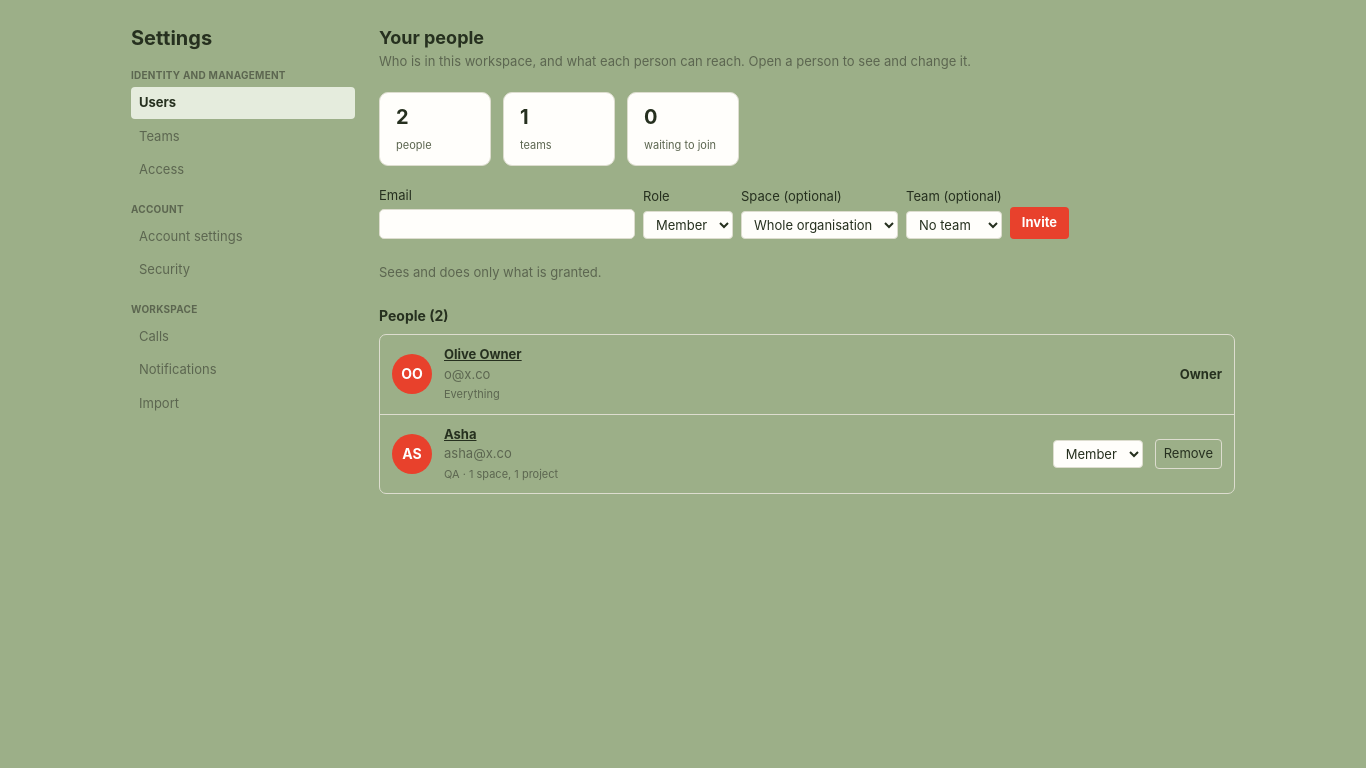
it: a person's page › shows the server's refusal when access cannot be given
The image size is (1366, 768).
Click the button "Asha" at {"x": 460, "y": 434}, box [444,424,476,444]
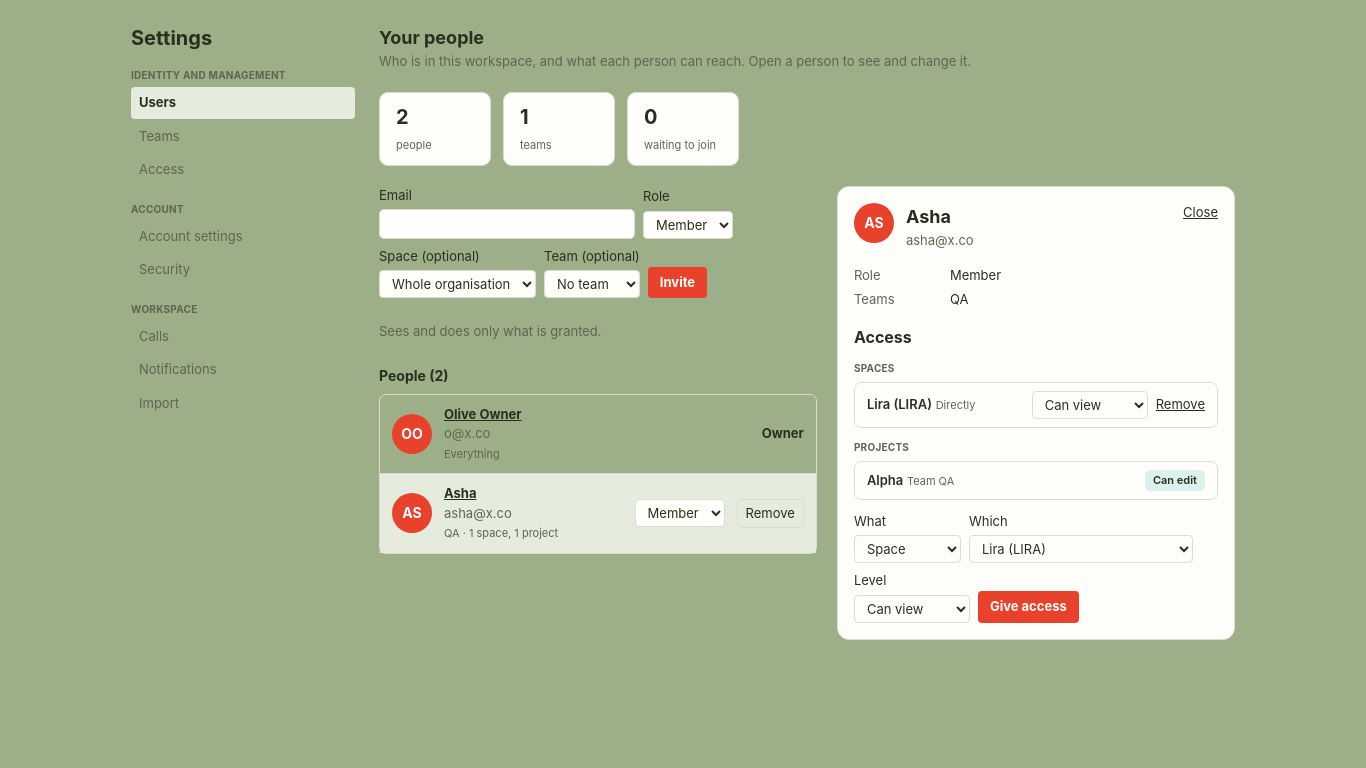
Click the button "Give access" at {"x": 1028, "y": 607}, box [978,591,1079,622]
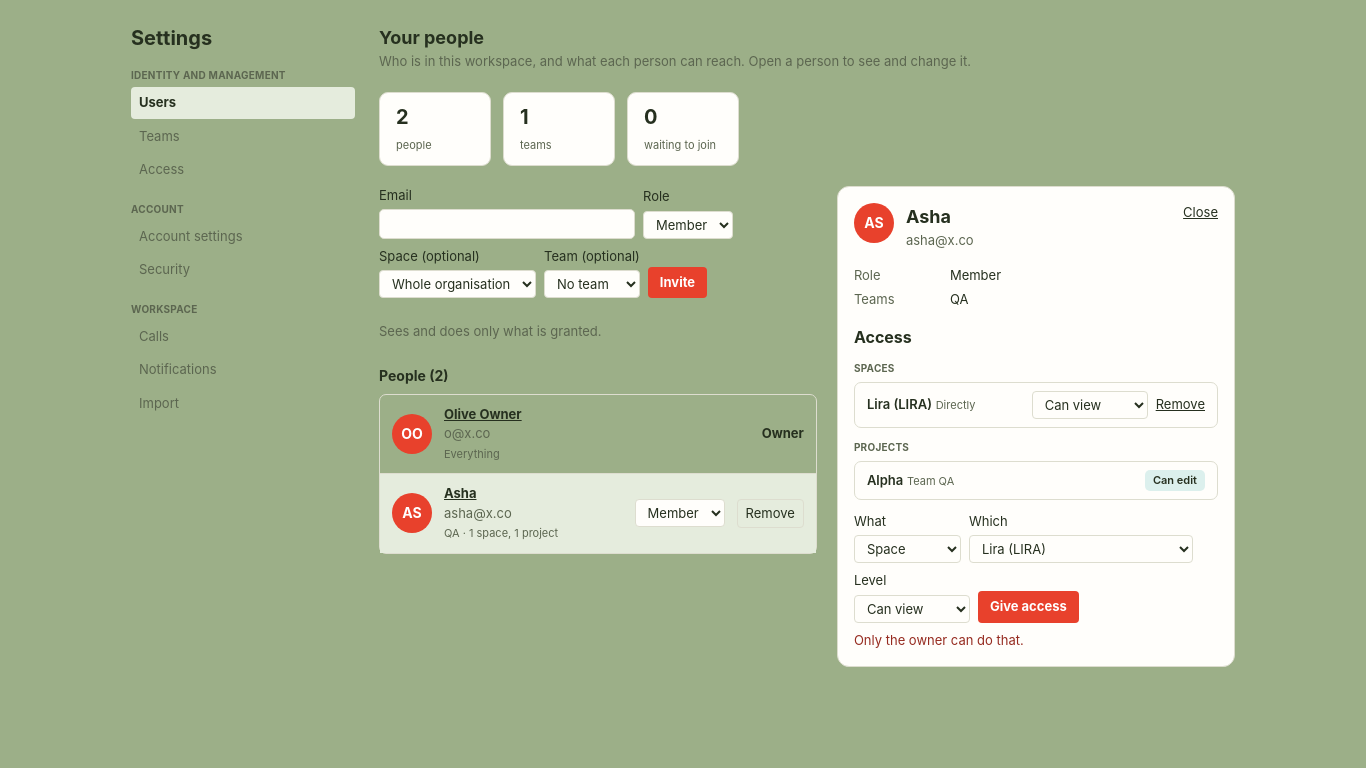
Expected: the message "Only the owner can do that." is shown, [854,632,1024,648]
